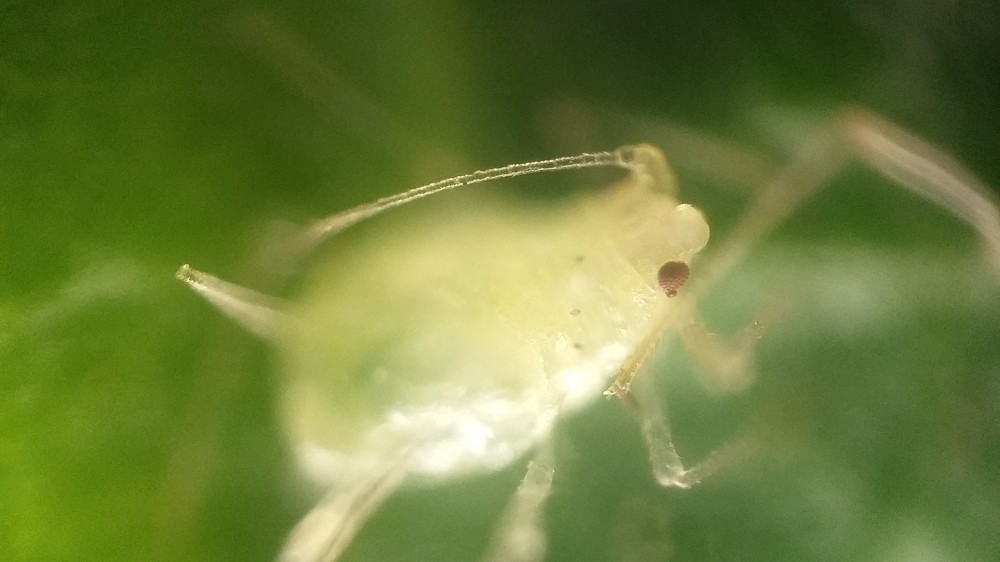Pulgon: (185, 34, 999, 562)
